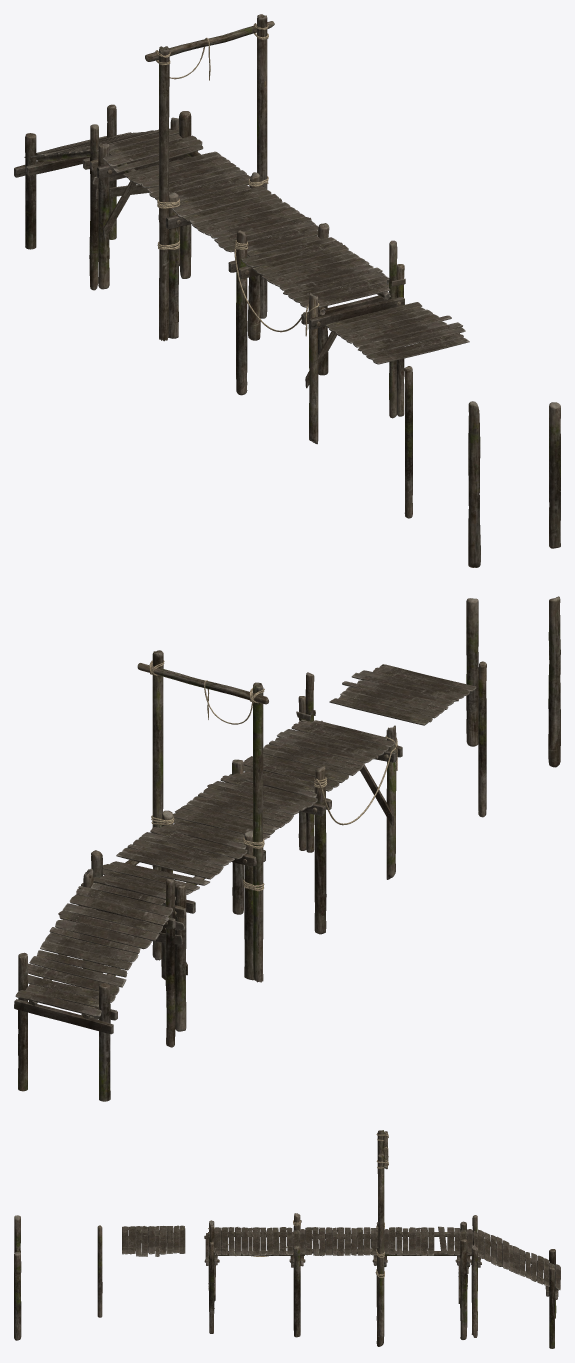
The model's file is modular_wooden_pier.glb.
3 renders of one model, top to bottom at view 1: azimuth 30°, elevation 25°; view 2: azimuth 150°, elevation 25°; view 3: azimuth 270°, elevation 25°, orthographic. The views are drawn at different scales.
Visible parts, largest first — view 1: modular_wooden_pier_section_01, modular_wooden_pier_section_03, modular_wooden_pier_section_02, modular_wooden_pier_section_05, modular_wooden_pier_section_04, modular_wooden_pier_planks, modular_wooden_pier_poles; view 2: modular_wooden_pier_section_04, modular_wooden_pier_section_01, modular_wooden_pier_section_03, modular_wooden_pier_section_02, modular_wooden_pier_section_05, modular_wooden_pier_poles, modular_wooden_pier_planks; view 3: modular_wooden_pier_section_01, modular_wooden_pier_section_04, modular_wooden_pier_section_03, modular_wooden_pier_section_02, modular_wooden_pier_planks, modular_wooden_pier_section_05, modular_wooden_pier_poles.
Boxes of the visible parts, x1,y1,x2,y2 form: modular_wooden_pier_section_01: (228, 223, 405, 444); modular_wooden_pier_section_03: (89, 111, 250, 289); modular_wooden_pier_section_02: (158, 172, 318, 340); modular_wooden_pier_section_05: (145, 14, 274, 341); modular_wooden_pier_section_04: (14, 104, 179, 290); modular_wooden_pier_planks: (325, 302, 469, 364); modular_wooden_pier_poles: (404, 366, 560, 567); modular_wooden_pier_section_04: (14, 868, 175, 1101); modular_wooden_pier_section_01: (225, 672, 402, 934); modular_wooden_pier_section_03: (81, 827, 247, 1031); modular_wooden_pier_section_02: (160, 775, 317, 980); modular_wooden_pier_section_05: (137, 650, 268, 982); modular_wooden_pier_poles: (466, 596, 560, 817); modular_wooden_pier_planks: (329, 664, 476, 725); modular_wooden_pier_section_01: (204, 1213, 305, 1337); modular_wooden_pier_section_04: (471, 1215, 560, 1348); modular_wooden_pier_section_03: (376, 1221, 473, 1339); modular_wooden_pier_section_02: (292, 1222, 389, 1346); modular_wooden_pier_planks: (122, 1225, 185, 1256); modular_wooden_pier_section_05: (375, 1130, 388, 1337); modular_wooden_pier_poles: (14, 1215, 102, 1340).
Size of the model in its own units: 3.1 by 7.52 by 19.03.
2 materials, 2 textured.
